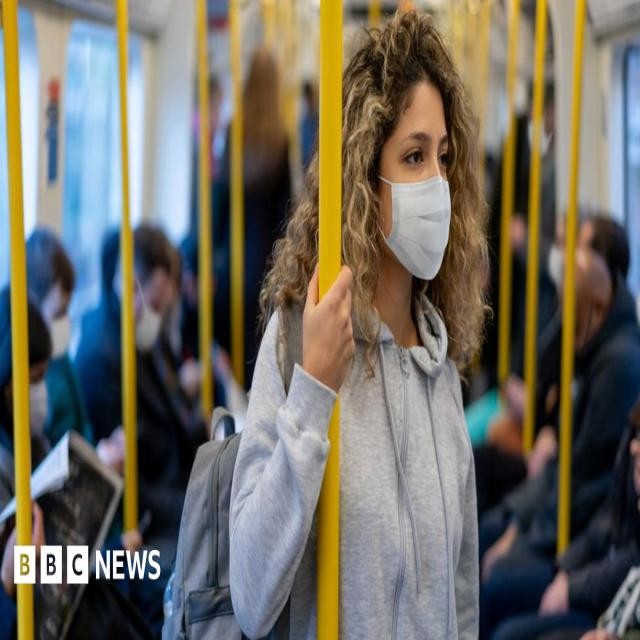Masked_face: (337, 39, 478, 314)
